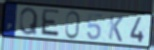0: (64, 10, 81, 41)
4: (129, 16, 145, 45)
5: (86, 12, 103, 41)
E: (39, 8, 61, 39)
K: (107, 14, 125, 43)
Q: (19, 7, 40, 37)
